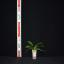leaf: (27, 41, 35, 49), (25, 48, 34, 53), (35, 43, 43, 48), (25, 46, 34, 49), (35, 48, 44, 51), (35, 46, 44, 49)
